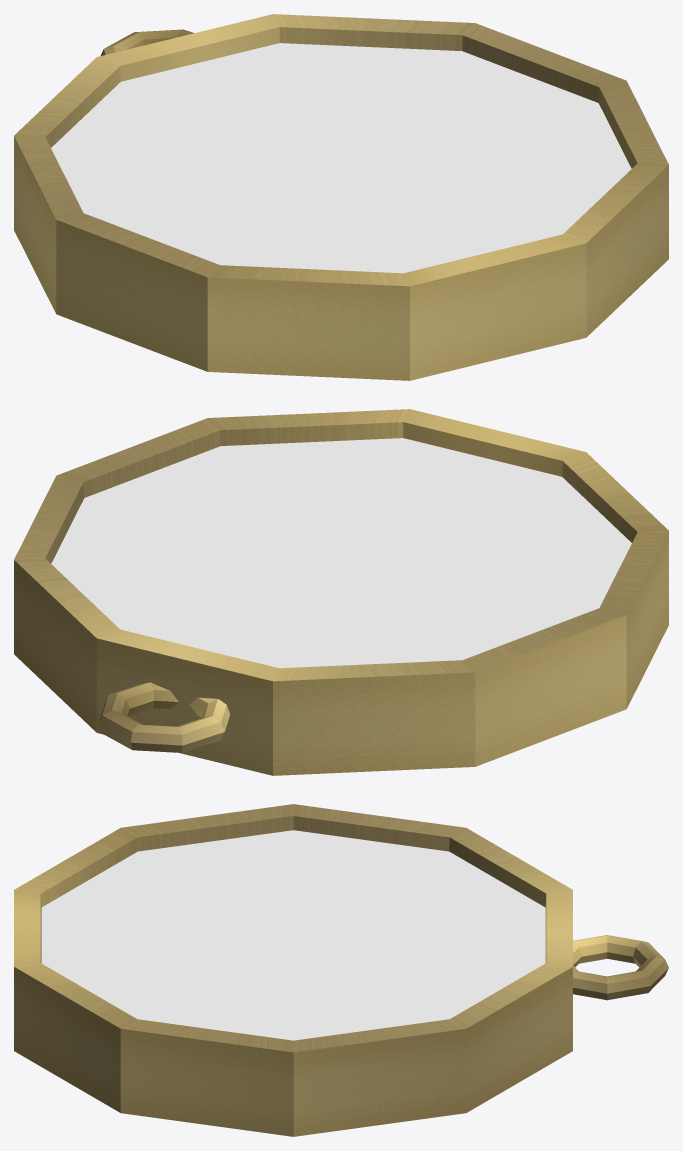
Rendered from Compass.obj.
3 views of the same model, one above another, from view 1: azimuth 30°, elevation 25°; view 2: azimuth 150°, elevation 25°; view 3: azimuth 270°, elevation 25° (orthographic). The views are drawn at different scales.
Visible parts, largest first — view 1: polySurface6; view 2: polySurface6; view 3: polySurface6.
Part boxes in pixels (bbox=[...]): polySurface6: bbox=[14, 14, 668, 380]; polySurface6: bbox=[14, 409, 668, 775]; polySurface6: bbox=[14, 804, 668, 1136].
Size of the model in its own units: 15.93 by 2.52 by 17.75.
Materials: 4 (3 with a texture image).
